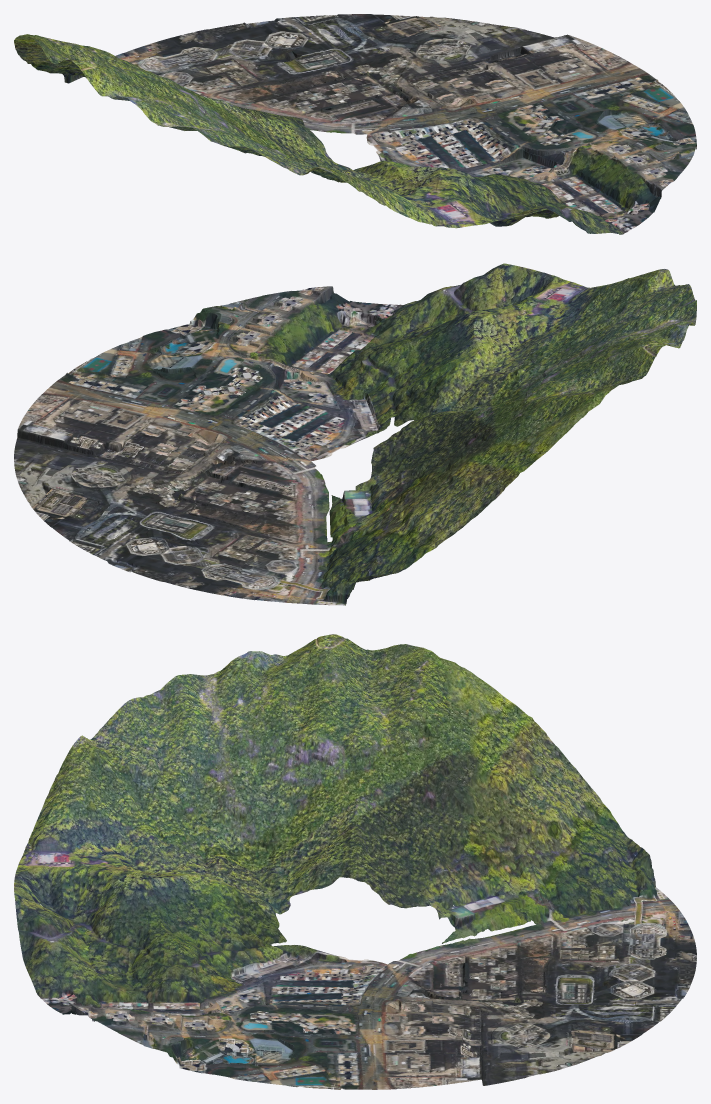
The model's file is terrain.glb.
3 views of the same model, one above another, from view 1: azimuth 30°, elevation 25°; view 2: azimuth 150°, elevation 25°; view 3: azimuth 270°, elevation 25° (orthographic).
Parts seen in each view (by area): view 1: T39750162000106E11, T39750156000106E10, T39000156000106E10, T39000162000106E11; view 2: T39750156000106E10, T39750162000106E11, T39000162000106E11, T39000156000106E10; view 3: T39000156000106E10, T39750156000106E10, T39000162000106E11, T39750162000106E11.
Part boxes in pixels (box(x1,y1,x2,y2)): T39750162000106E11: box(125, 14, 641, 141); T39750156000106E10: box(289, 69, 696, 234); T39000156000106E10: box(52, 60, 457, 228); T39000162000106E11: box(14, 34, 199, 94); T39750156000106E10: box(51, 263, 584, 457); T39750162000106E11: box(14, 386, 410, 599); T39000162000106E11: box(253, 380, 636, 605); T39000156000106E10: box(412, 269, 696, 433); T39000156000106E10: box(22, 634, 373, 890); T39750156000106E10: box(14, 853, 373, 1089); T39000162000106E11: box(372, 644, 688, 925); T39750162000106E11: box(372, 874, 696, 1089).
Size of the model in its own units: 700 by 206 by 700.
4 materials, 4 textured.
